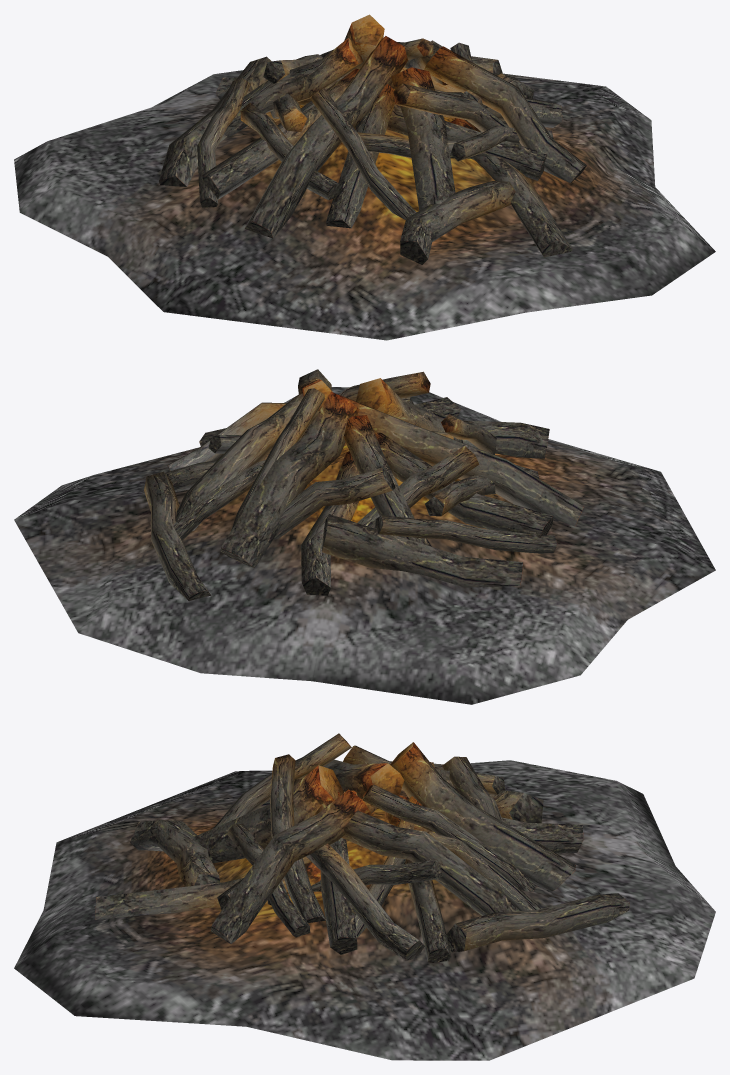
File: BornFire.fbx
3 renders of one model, top to bottom at view 1: azimuth 30°, elevation 25°; view 2: azimuth 150°, elevation 25°; view 3: azimuth 270°, elevation 25°, orthographic. The views are drawn at different scales.
Parts seen in each view (by area): view 1: SMO_BGxx_bonfire_0000; view 2: SMO_BGxx_bonfire_0000; view 3: SMO_BGxx_bonfire_0000.
Part boxes in pixels (box(x1,y1,x2,y2)): SMO_BGxx_bonfire_0000: box(14, 14, 715, 340); SMO_BGxx_bonfire_0000: box(14, 369, 715, 704); SMO_BGxx_bonfire_0000: box(14, 733, 715, 1060).
Size of the model in its own units: 159 by 43.97 by 161.
